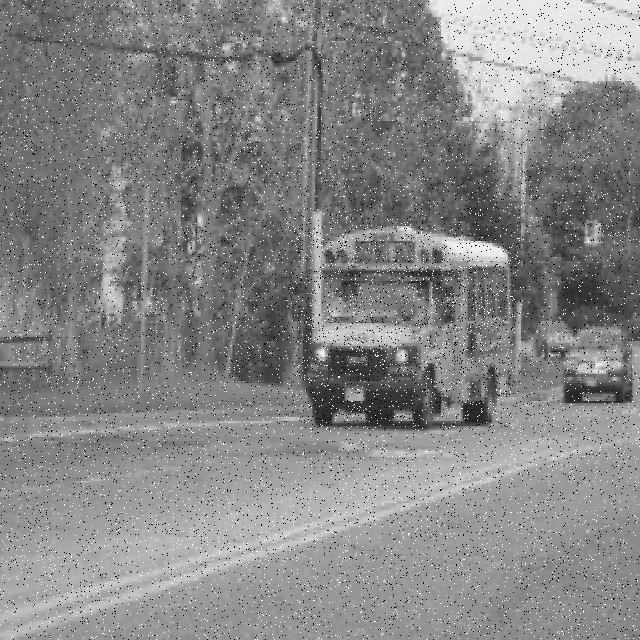Bus- Small: (291, 226, 514, 429)
